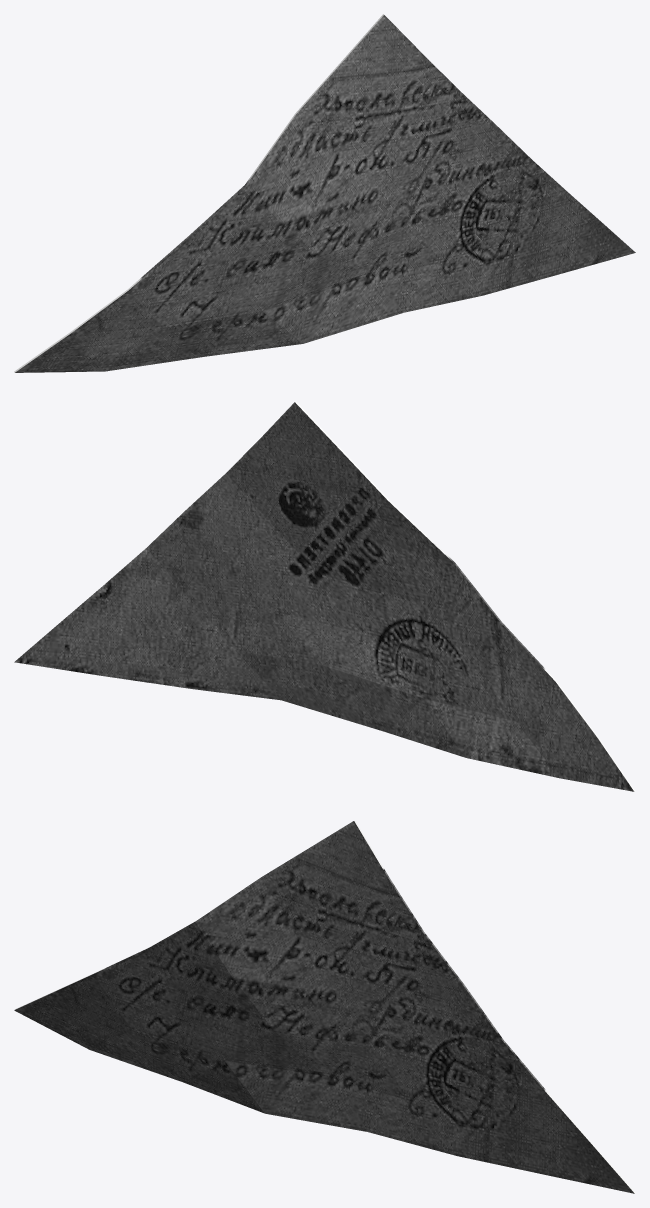
Rendered from letter.gltf.
3 renders of one model, top to bottom at view 1: azimuth 30°, elevation 25°; view 2: azimuth 150°, elevation 25°; view 3: azimuth 330°, elevation 25°, orthographic.
Parts seen in each view (by area): view 1: letter; view 2: letter; view 3: letter.
Boxes of the visible parts, box(x1,y1,x2,y2) form: letter: box(14, 14, 635, 372); letter: box(14, 401, 635, 791); letter: box(14, 820, 635, 1193).
Size of the model in its own units: 6.75 by 3.26 by 0.5219.
Materials: 1 (1 with a texture image).
